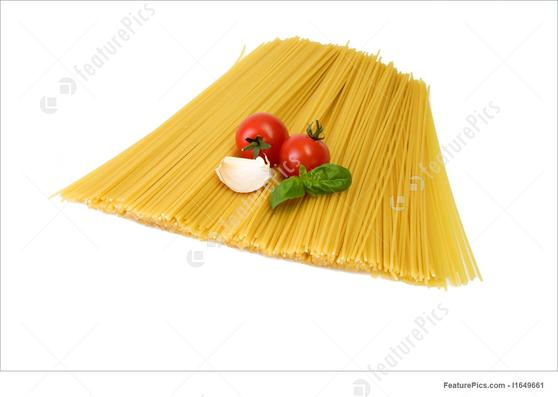spaghetti: (63, 36, 480, 283)
